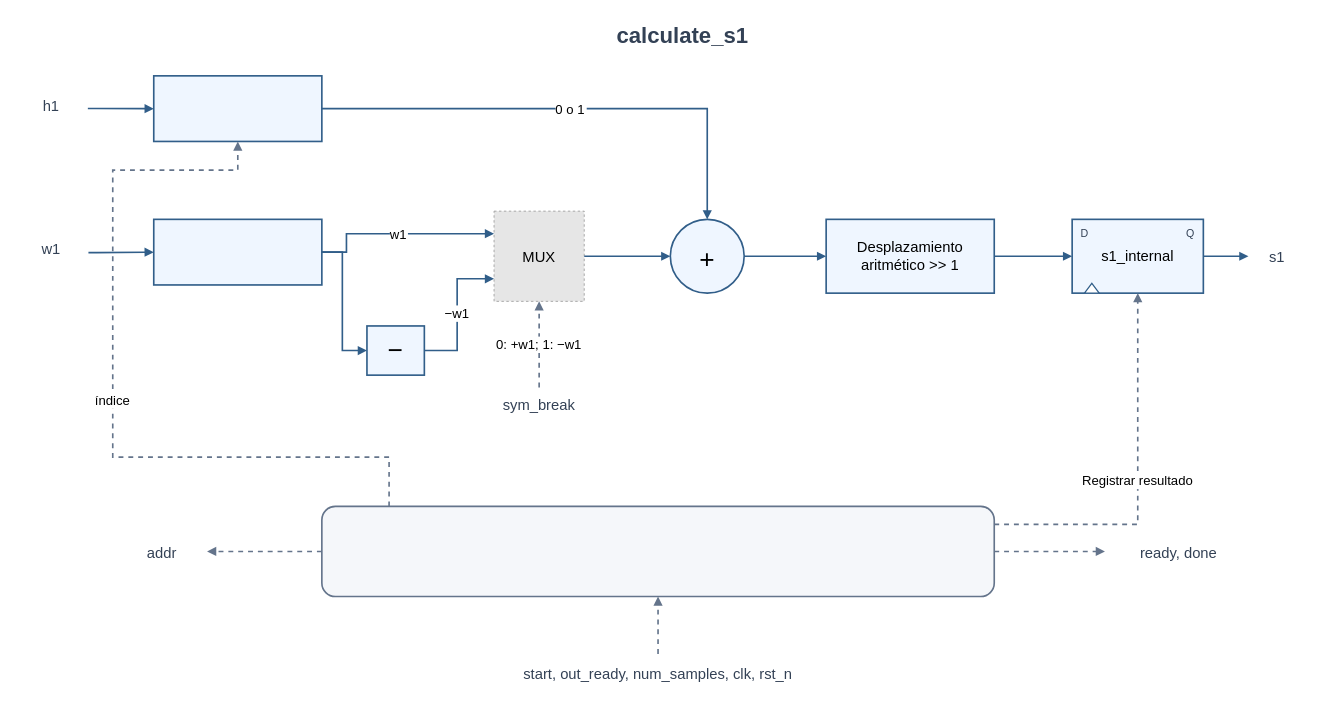
This 1319x704 diagram has some shape labels left out. Grey dashed boxes stand in for pictures. Here are the shapes that lost their labels. From the top down, the box of each, then its label:
(153, 75, 322, 142): Selección de bit h1[índice]
(153, 218, 322, 285): Extensión de signo
(321, 505, 995, 597): Unidad de control
